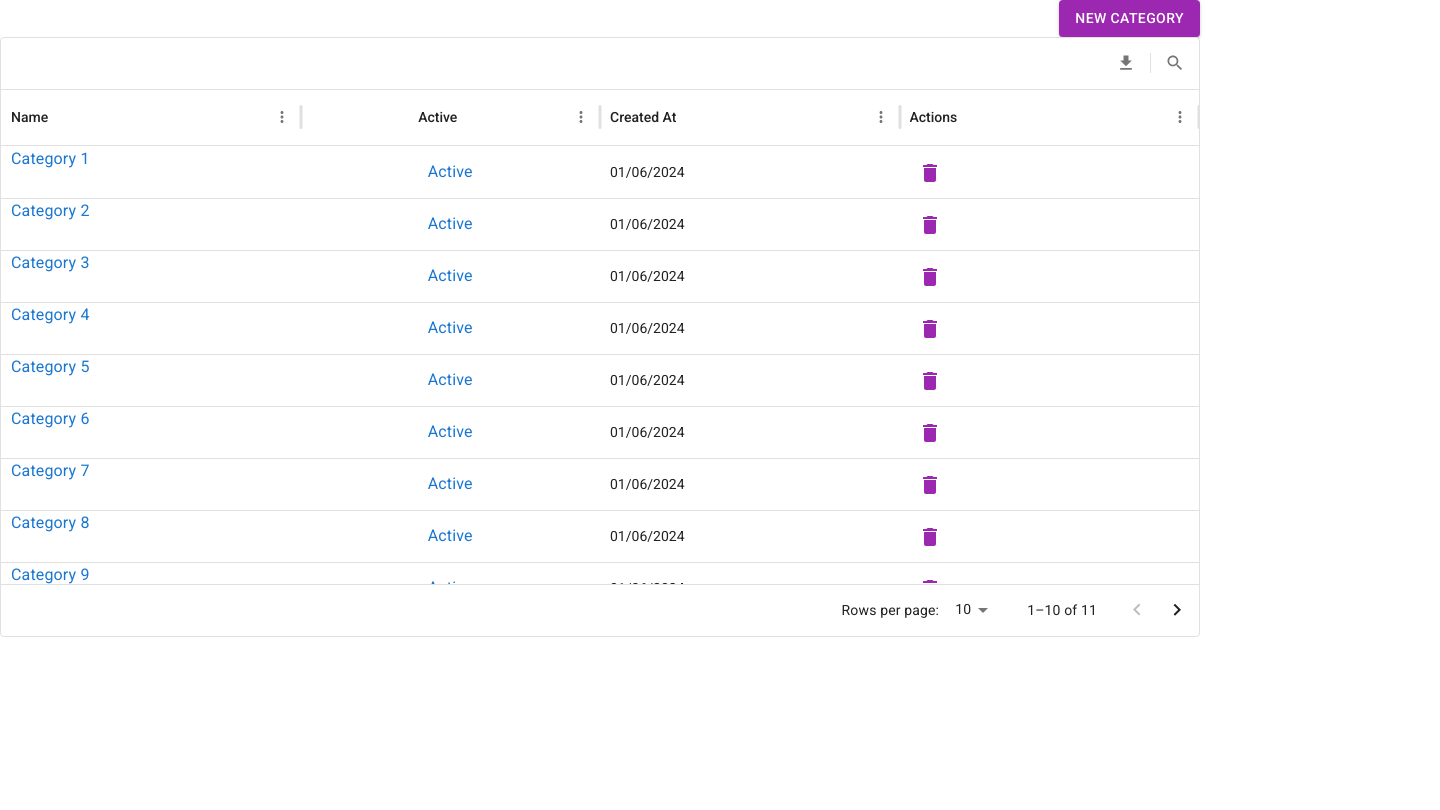
Test case: ListCategory › should handle Delete Category error
The width and height of the screenshot is (1440, 810).
Expected: the text "Category 2" is shown, [11,200,90,220]
Click the button with test id "delete-button" in the row of "Category 1" at (930, 173), box [910,153,950,193]
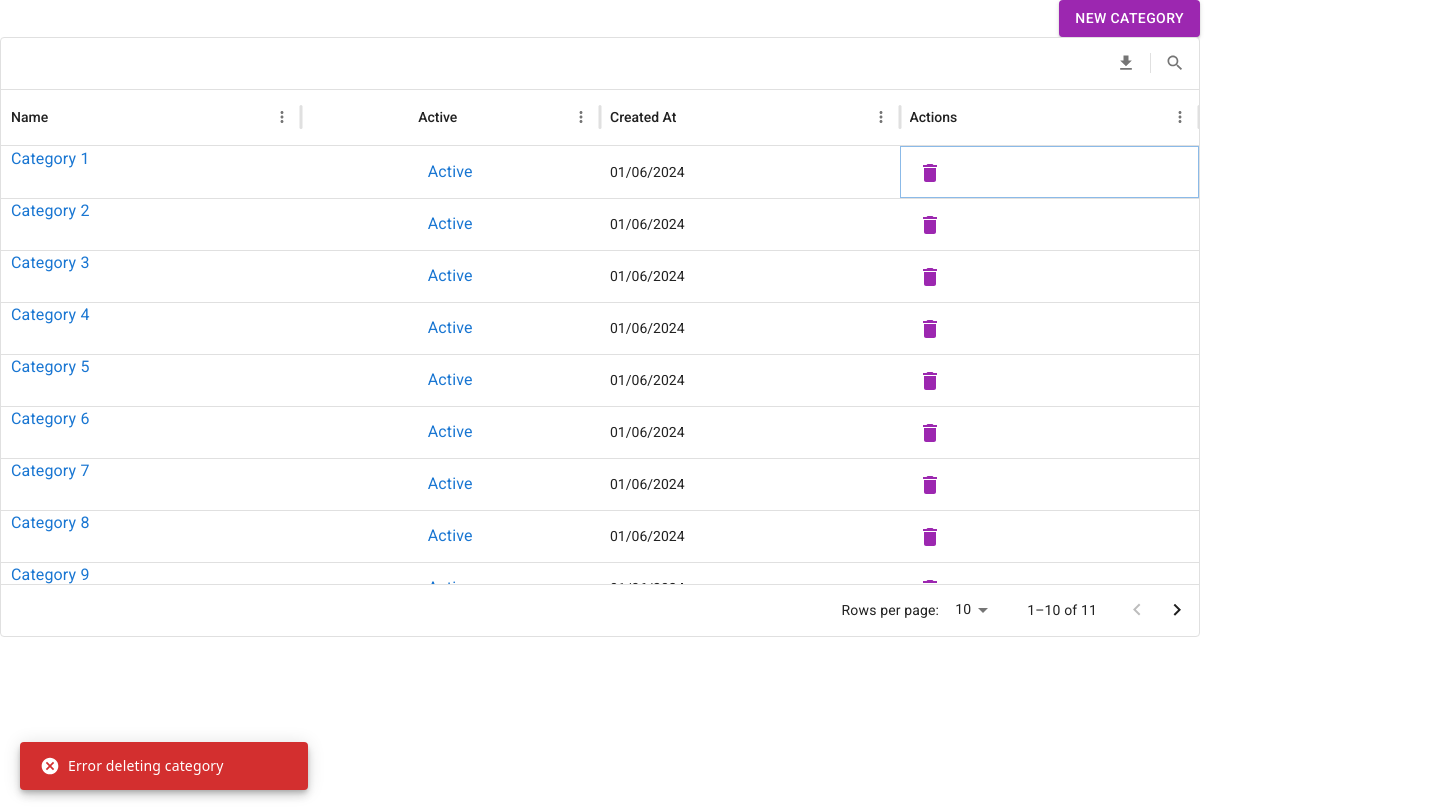
Expected: the text "Error deleting category" is shown, [40,756,224,776]
